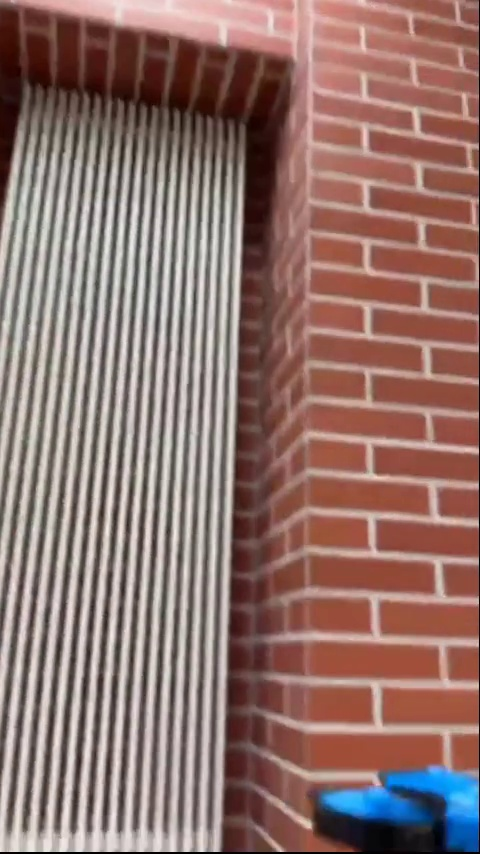drone: (319, 760, 480, 852)
